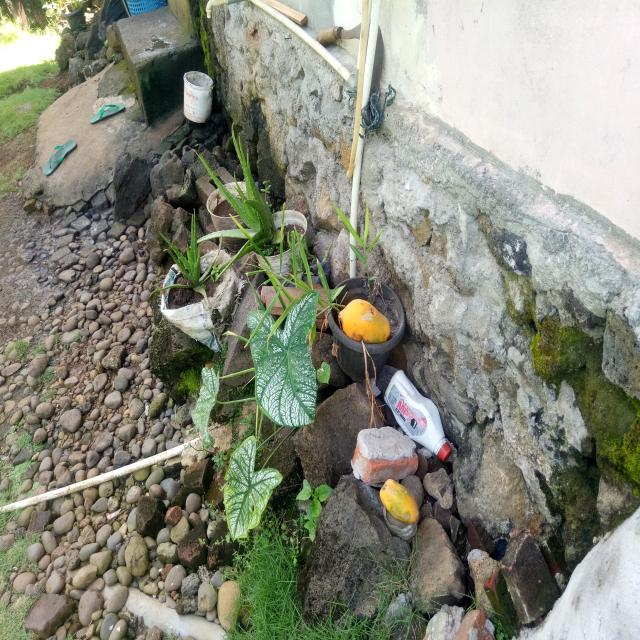Pepaya rippen: (337, 291, 395, 351), (374, 474, 420, 525)
